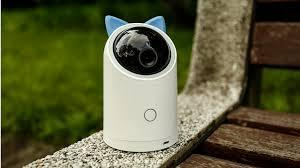maru: (102, 14, 180, 151)
